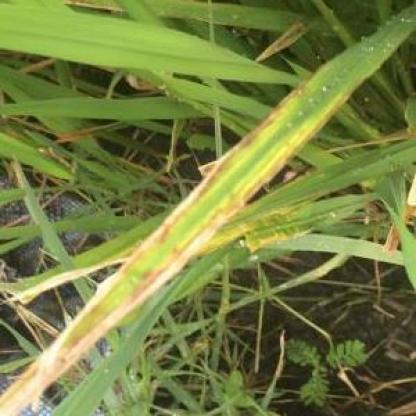Blight: (1, 12, 416, 416)
